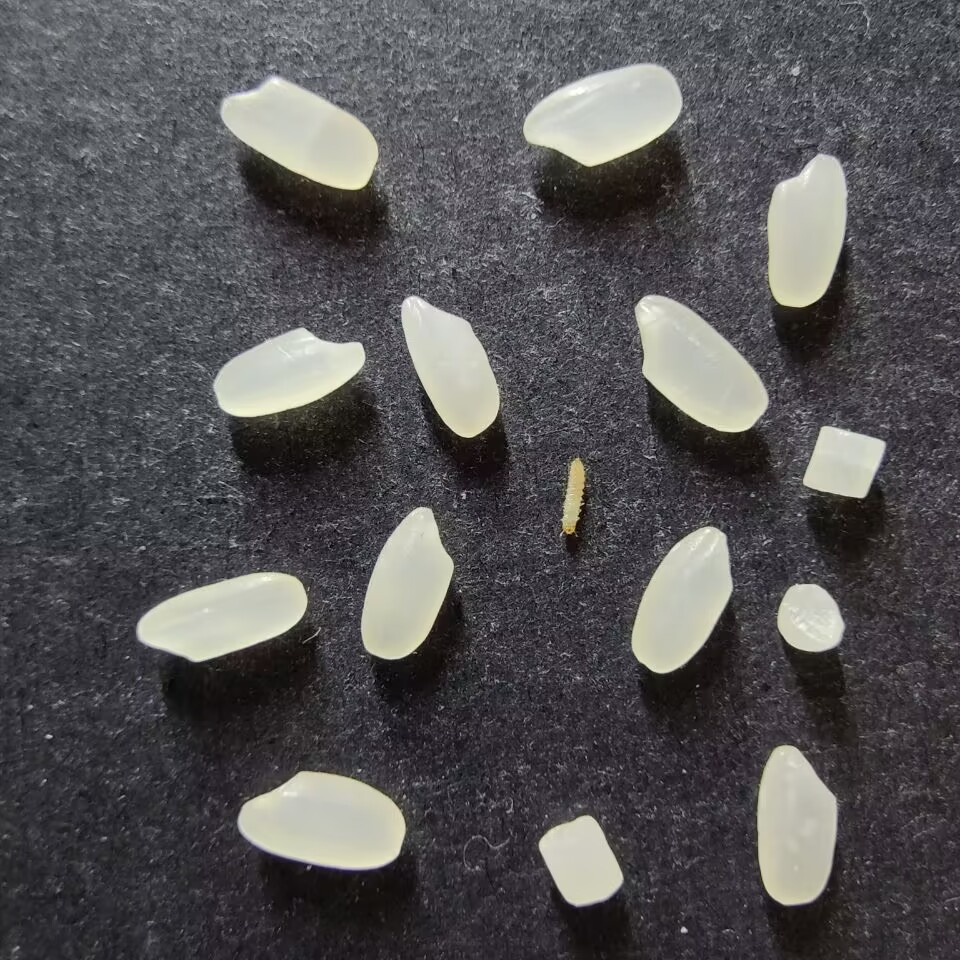broken: (537, 815, 623, 907), (802, 425, 886, 499), (776, 582, 844, 653)
others: (557, 456, 585, 542)
rice: (633, 294, 769, 433), (220, 76, 379, 191), (237, 770, 406, 870), (522, 63, 682, 167), (136, 572, 307, 663), (629, 526, 733, 674), (360, 506, 454, 660), (400, 296, 499, 438), (212, 326, 365, 417), (755, 744, 839, 906), (765, 154, 848, 308)
